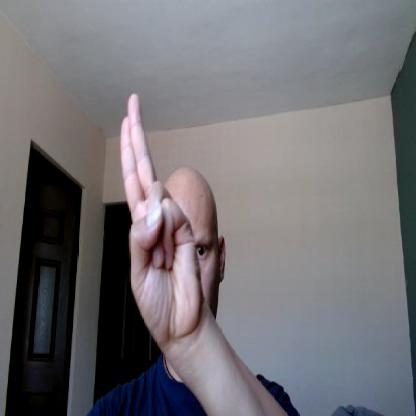U: (119, 91, 201, 347)
